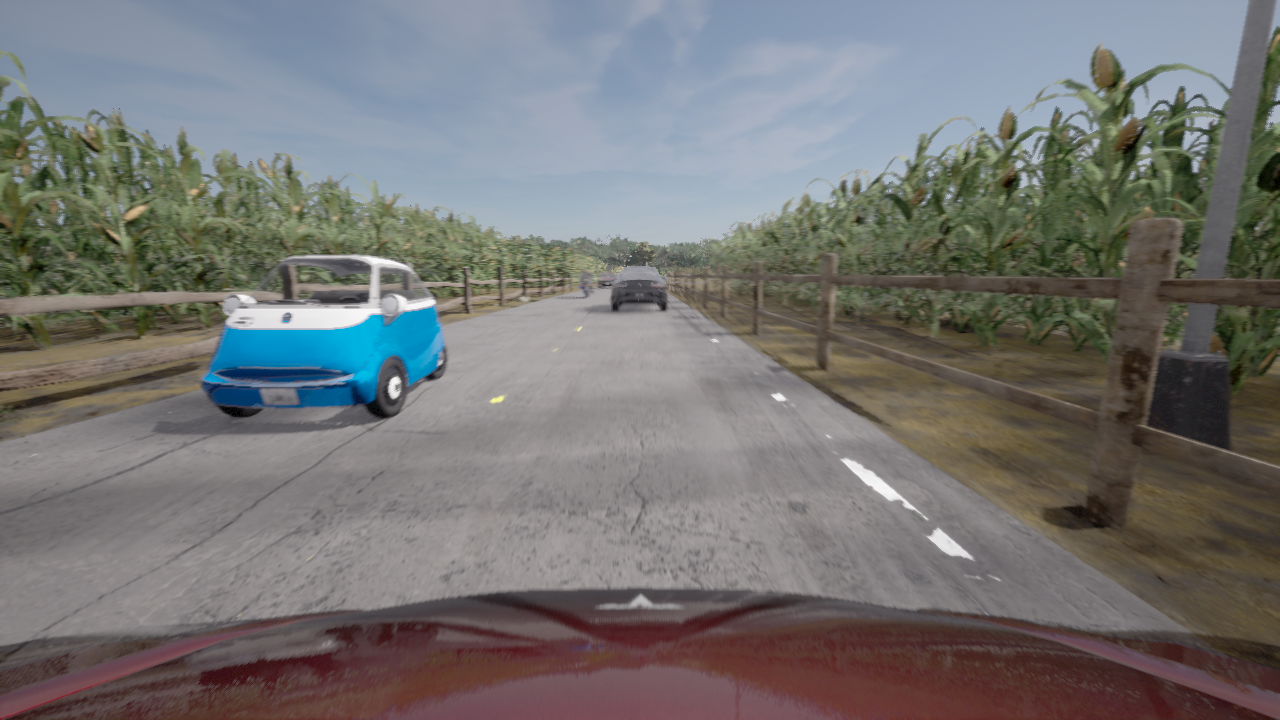cyclist: (0, 588, 1279, 719), (201, 255, 446, 417), (612, 267, 667, 310), (579, 274, 593, 297), (598, 272, 618, 288)
